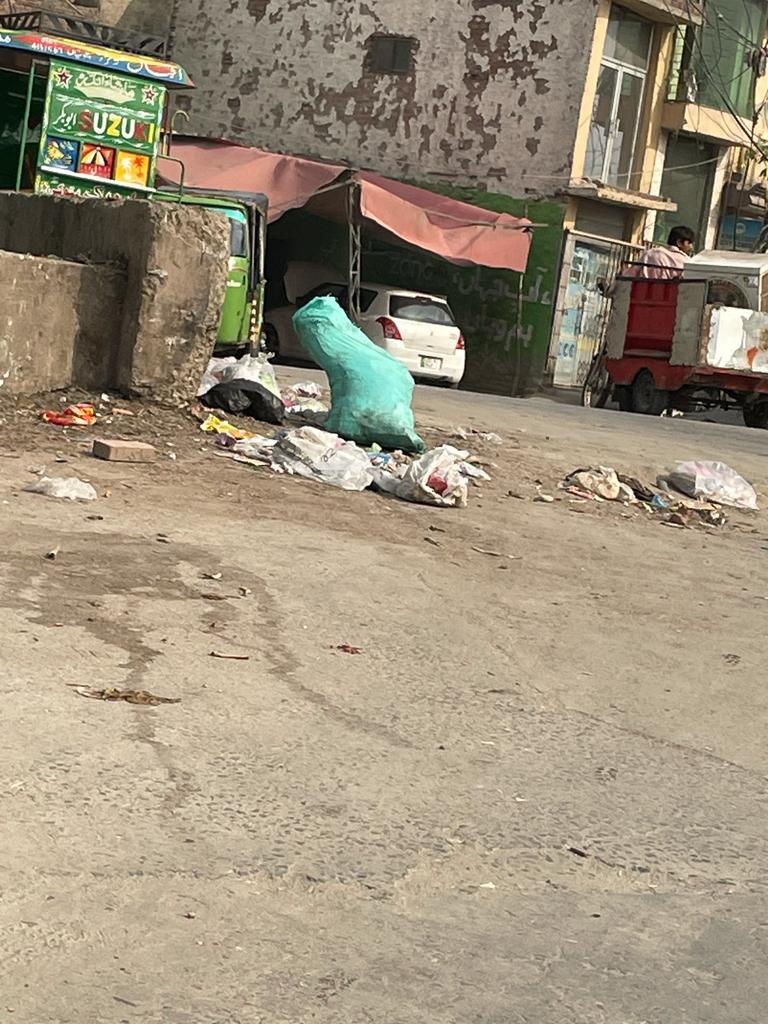garbage: (178, 287, 508, 541), (523, 398, 768, 562)
